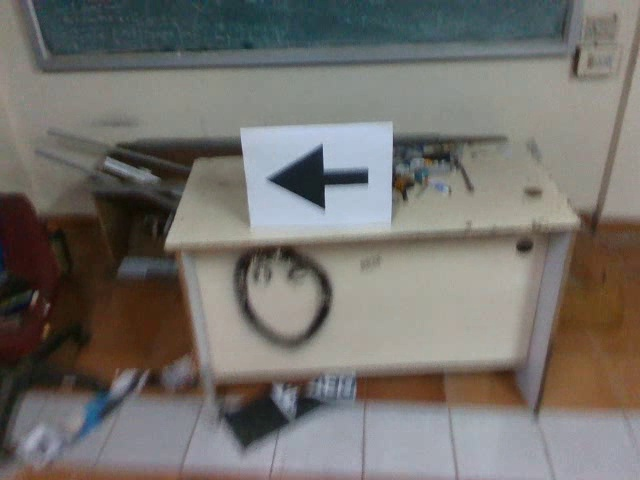Left: (259, 140, 381, 214)
